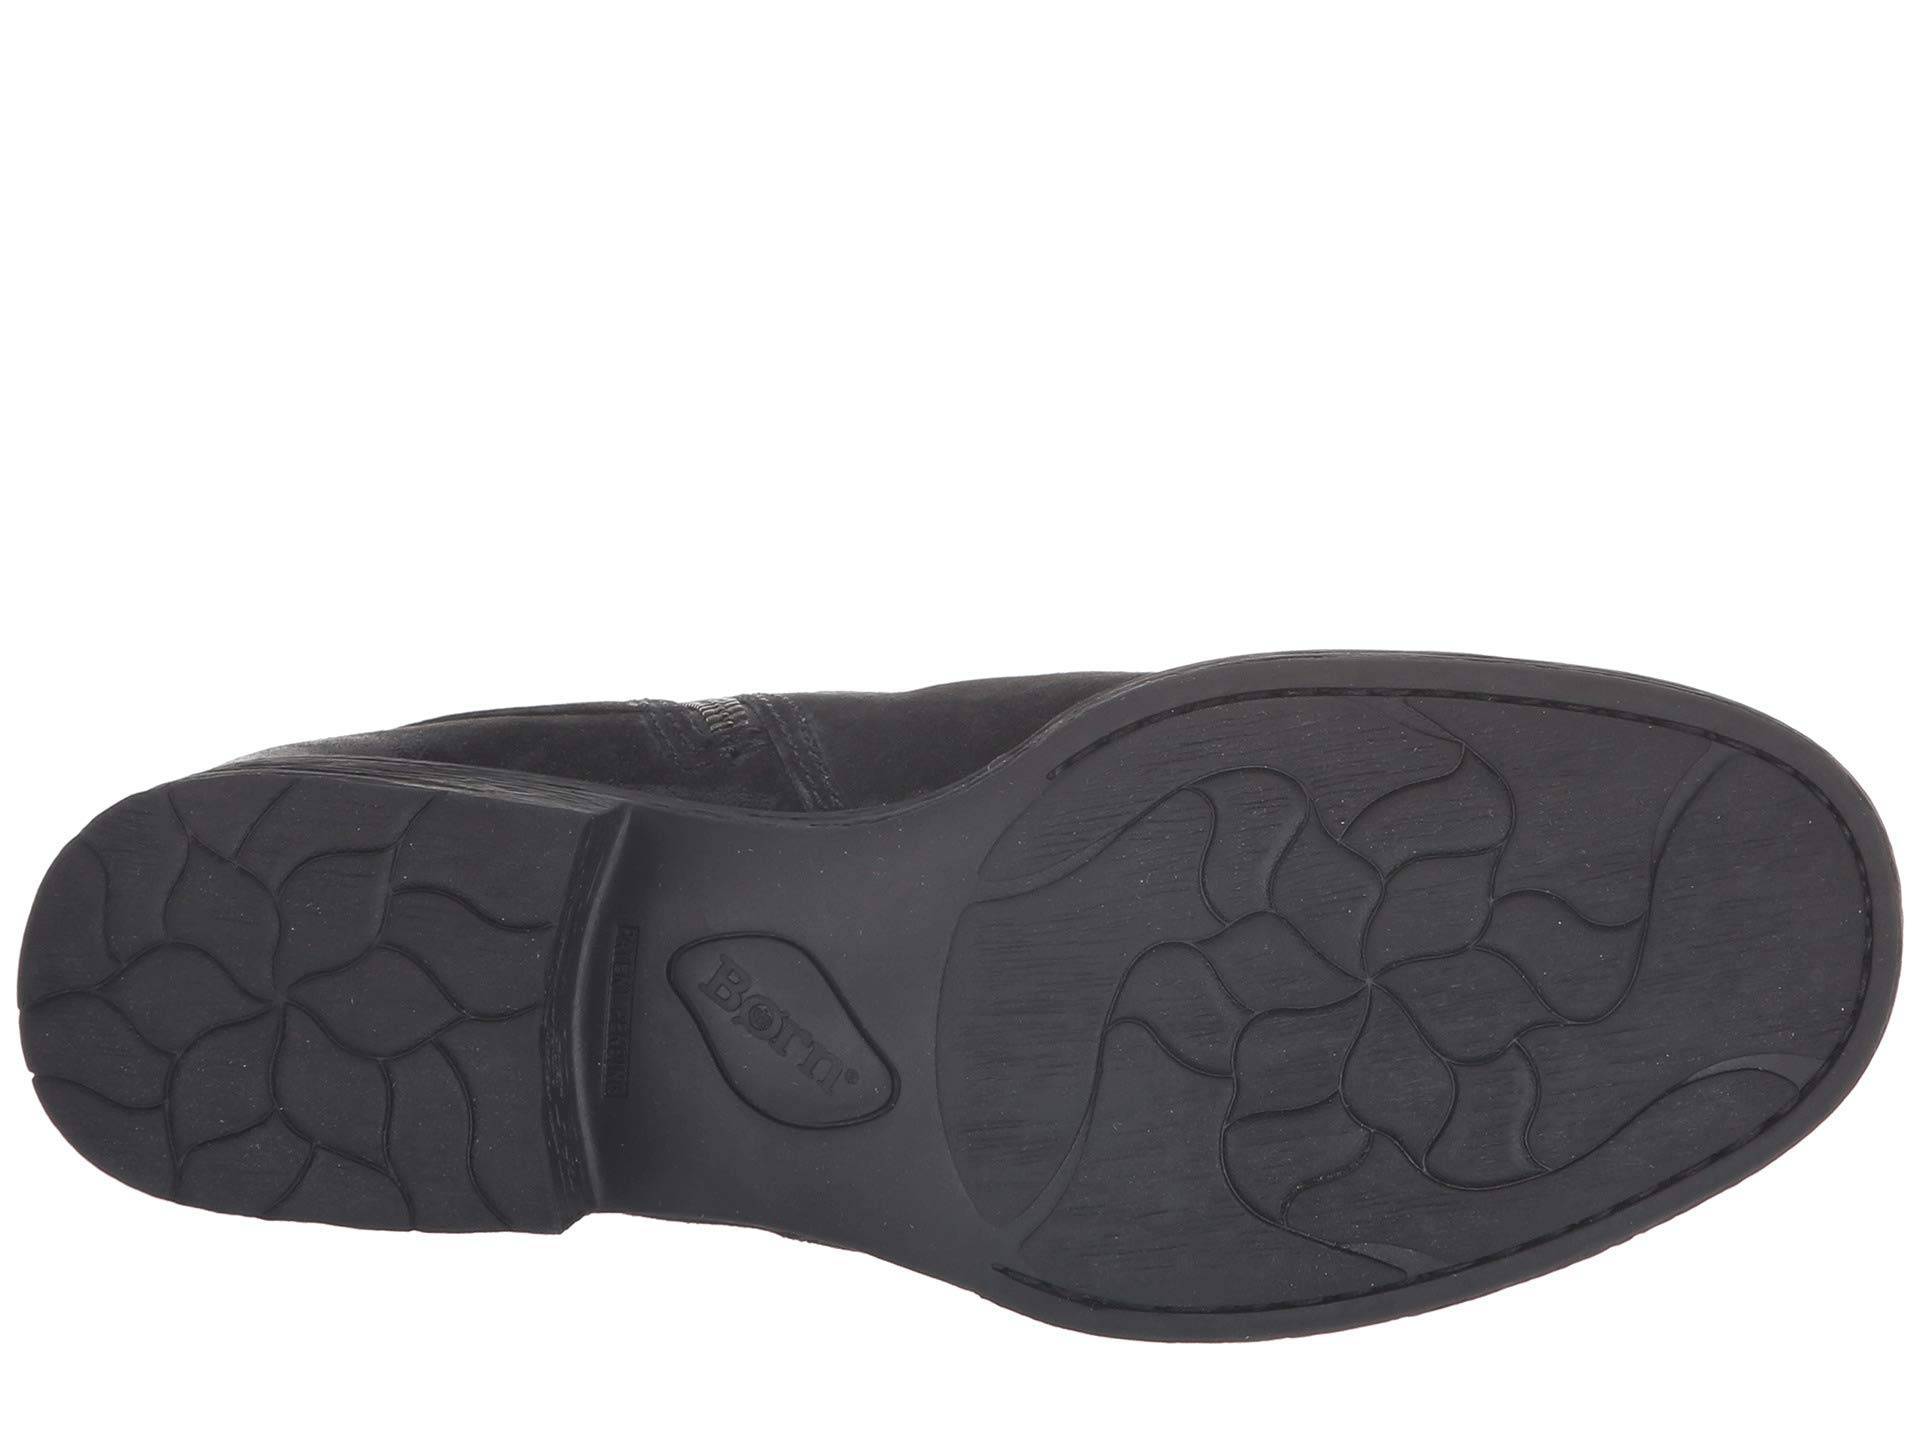circle: (633, 908, 933, 1189)
quad: (1131, 764, 1603, 1231), (94, 814, 482, 1193), (633, 908, 933, 1189)
star: (1131, 764, 1603, 1231), (94, 814, 482, 1193)
text: (633, 908, 933, 1189)
